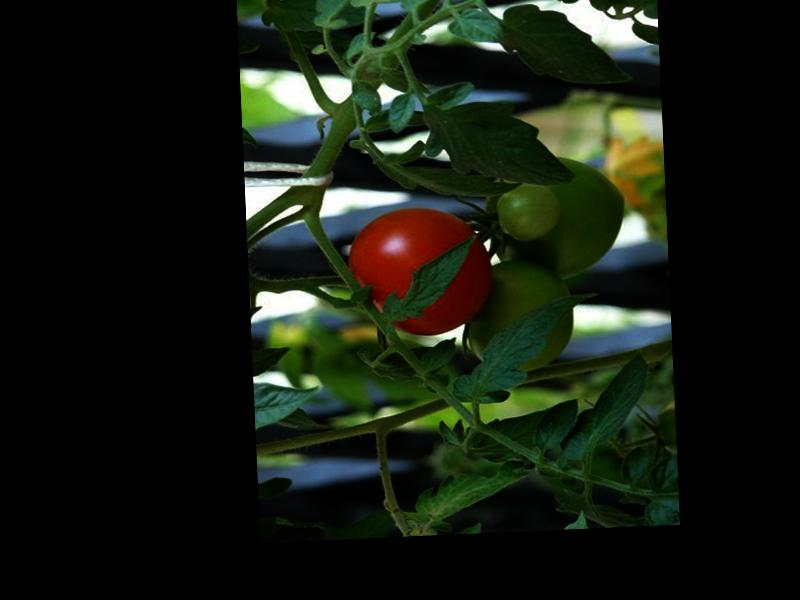Tomato: (345, 204, 492, 338)
